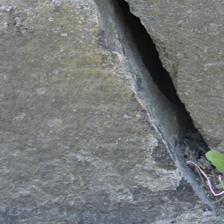Crack: (96, 5, 209, 157)
